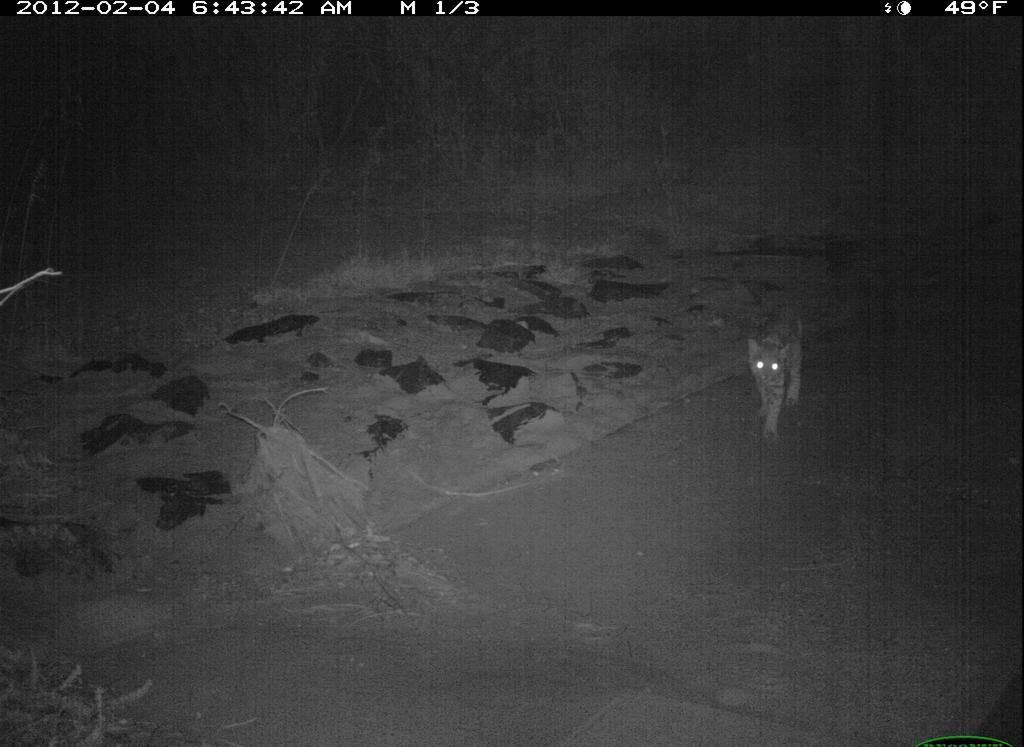bobcat: (734, 301, 825, 447)
